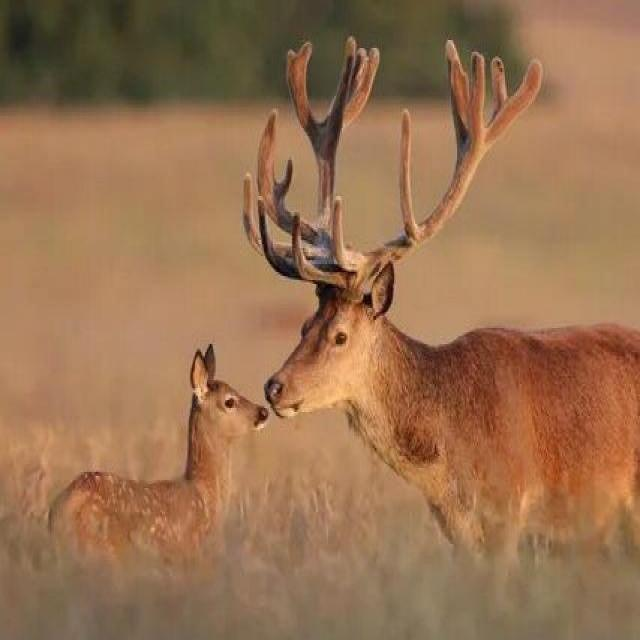deer: (218, 173, 623, 520)
